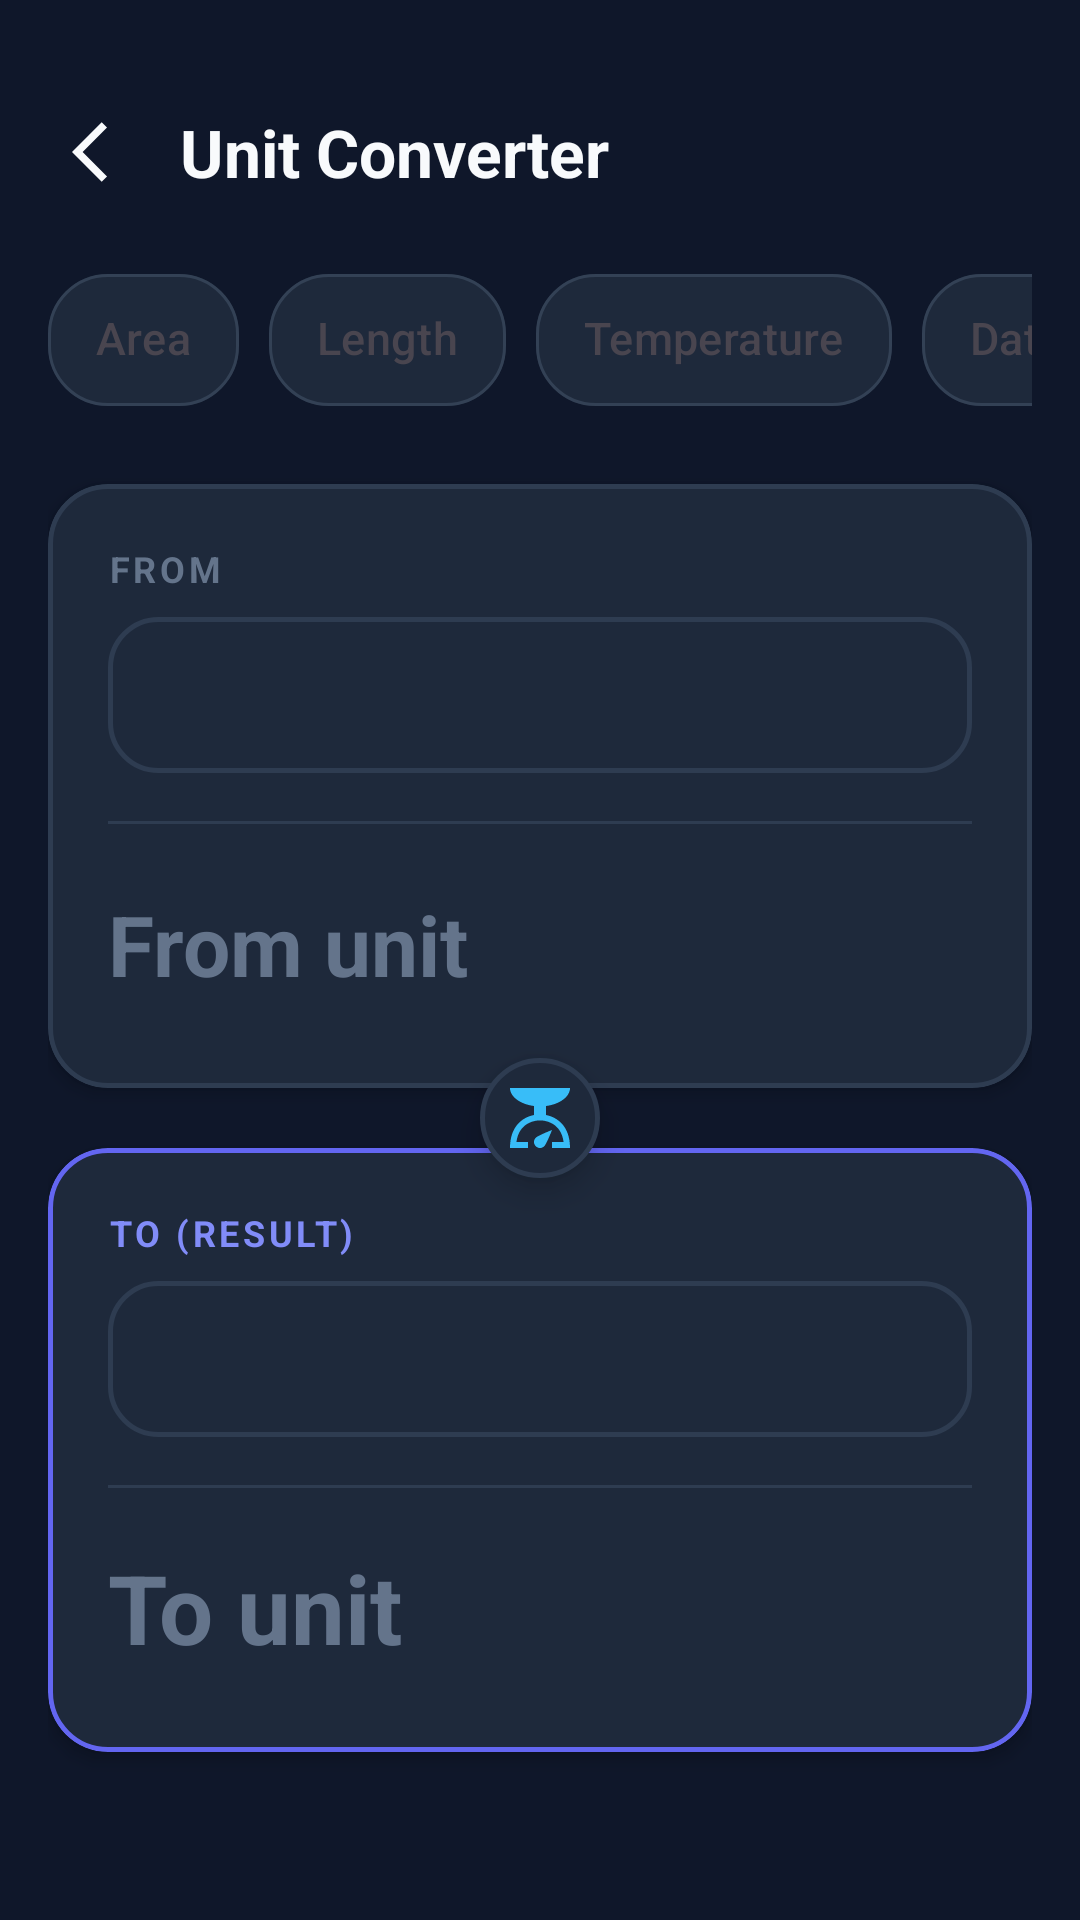

Locate icon controls on the screen. Image size 1080*1920, boxes as (x1, y1, x2, y2).
scale: (483, 1088, 597, 1148)
